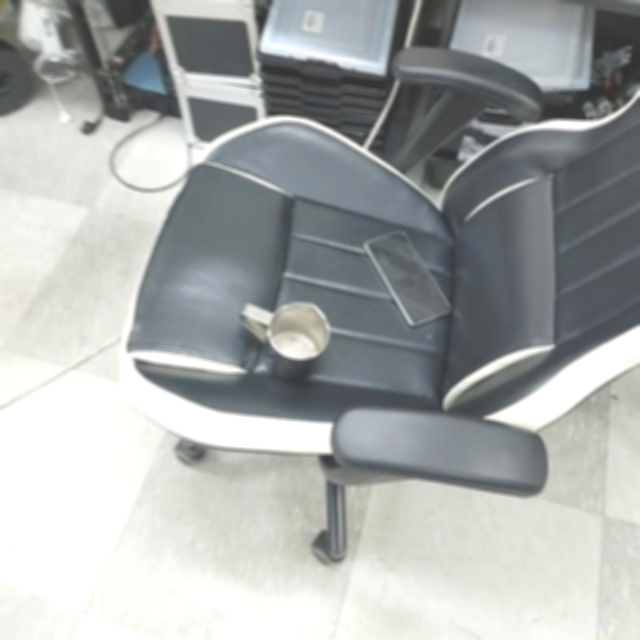cup: (239, 301, 331, 380)
phone: (363, 228, 452, 328)
